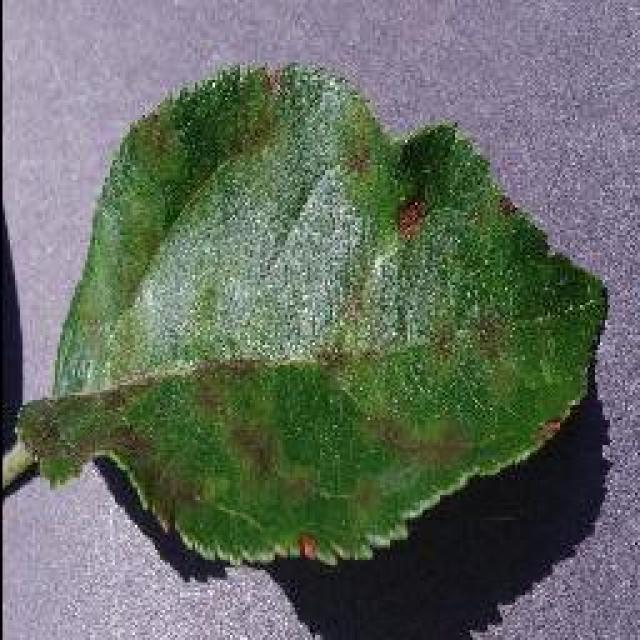apple scab disease: (8, 58, 610, 570)
